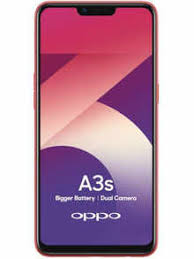oppo: (32, 1, 159, 255)
